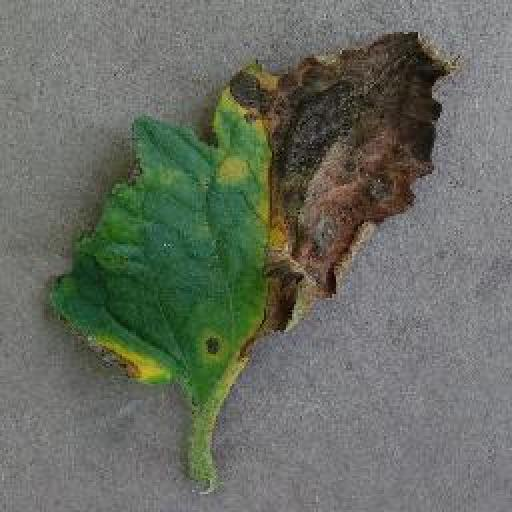Early Blight: (39, 27, 446, 384)
